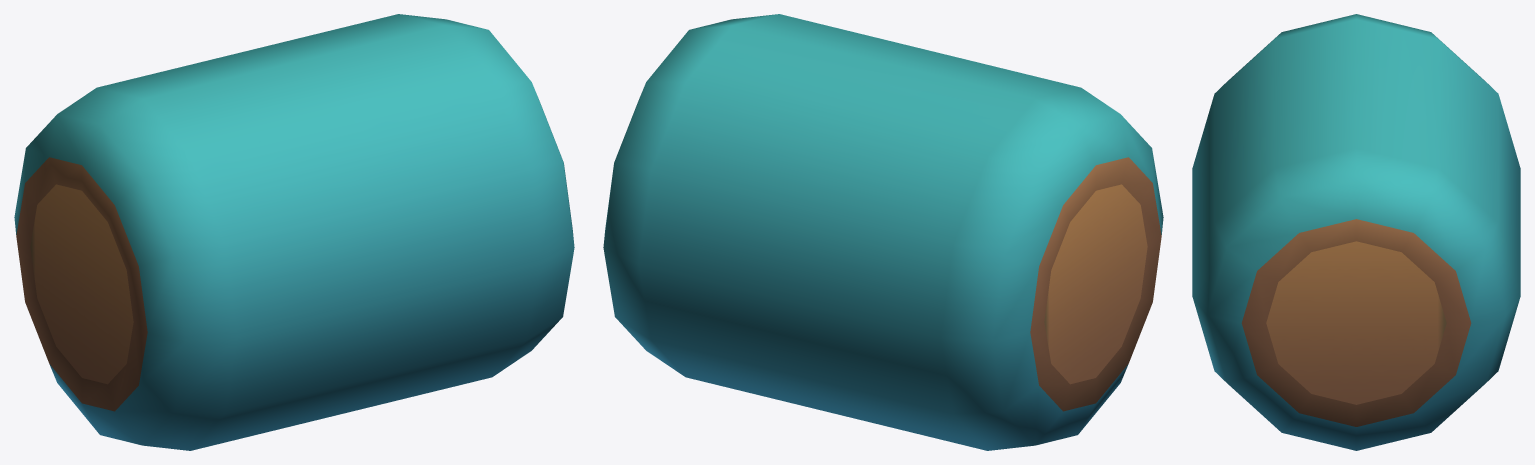
The model's file is Blue_Wood.fbx.
The picture shows the model from 3 angles, left to right: view 1: azimuth 30°, elevation 25°; view 2: azimuth 150°, elevation 25°; view 3: azimuth 270°, elevation 25°; orthographic projection. The views are drawn at different scales.
Parts seen in each view (by area): view 1: Blue_Wood; view 2: Blue_Wood; view 3: Blue_Wood.
Boxes of the visible parts, <box> form: Blue_Wood: <box>14,14,574,450</box>; Blue_Wood: <box>603,14,1163,450</box>; Blue_Wood: <box>1192,14,1520,450</box>.
Size of the model in its own units: 0.9486 by 0.7256 by 0.7256.
